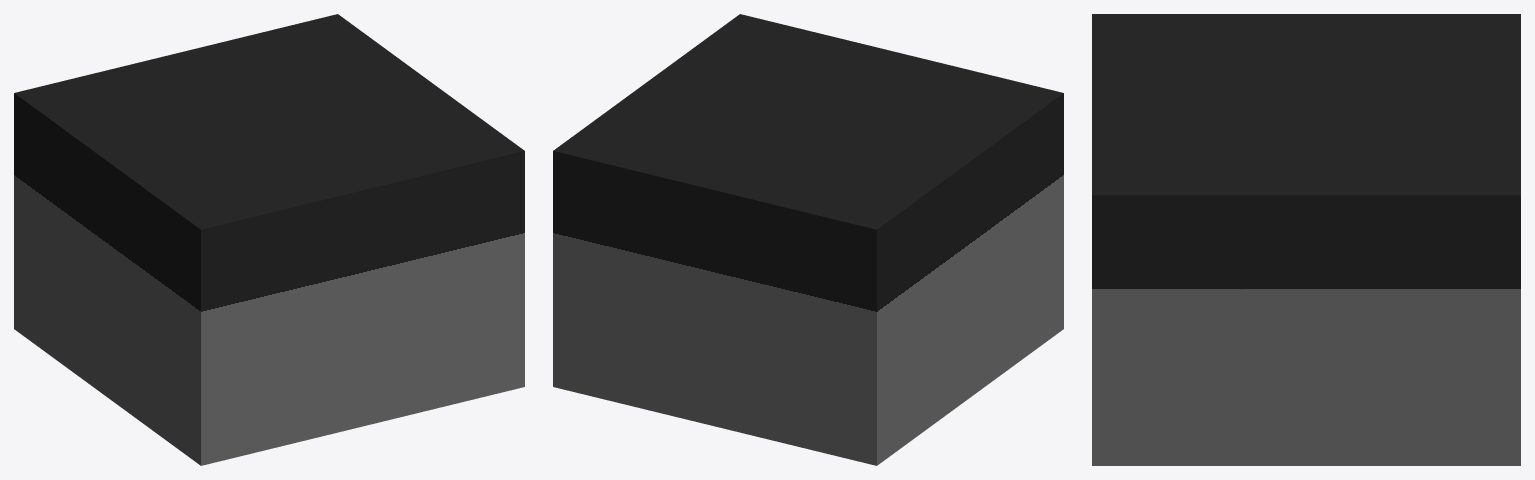
The model's file is obj_store10.dae.
3 renders of one model, left to right at view 1: azimuth 30°, elevation 25°; view 2: azimuth 150°, elevation 25°; view 3: azimuth 270°, elevation 25°, orthographic. The views are drawn at different scales.
Parts seen in each view (by area): view 1: obj_store10; view 2: obj_store10; view 3: obj_store10.
Part boxes in pixels (left/top/right/bottom): obj_store10: left=14, top=14, right=524, bottom=465; obj_store10: left=553, top=14, right=1063, bottom=465; obj_store10: left=1092, top=14, right=1520, bottom=465.
Size of the model in its own units: 3.3 by 3.3 by 2.3.
Materials: 1 (1 with a texture image).
